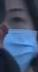with_mask: (2, 1, 38, 72)
